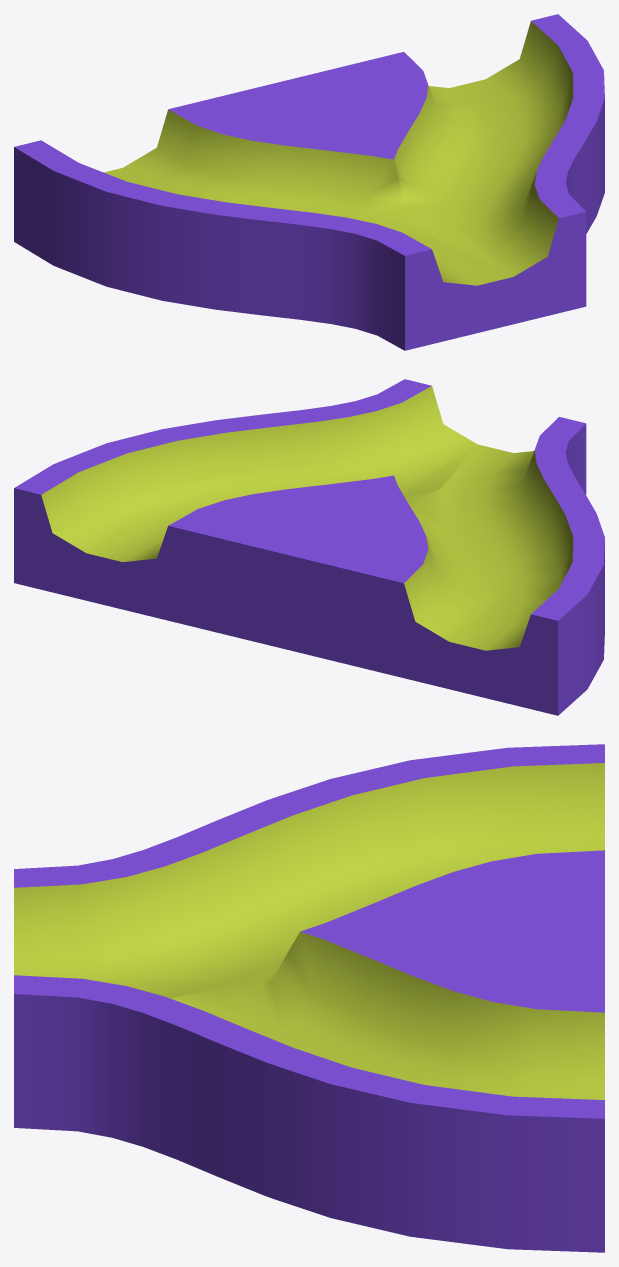
Rendered from split_double_solid-col.dae.
3 renders of one model, top to bottom at view 1: azimuth 30°, elevation 25°; view 2: azimuth 150°, elevation 25°; view 3: azimuth 270°, elevation 25°, orthographic. The views are drawn at different scales.
Visible parts, largest first — view 1: split_double_solid-col; view 2: split_double_solid-col; view 3: split_double_solid-col.
Boxes of the visible parts, x1,y1,x2,y2 form: split_double_solid-col: (14, 14, 604, 350); split_double_solid-col: (14, 379, 604, 715); split_double_solid-col: (14, 744, 604, 1252).
Bounding box in the file's own units: 3 × 2 × 0.5.
